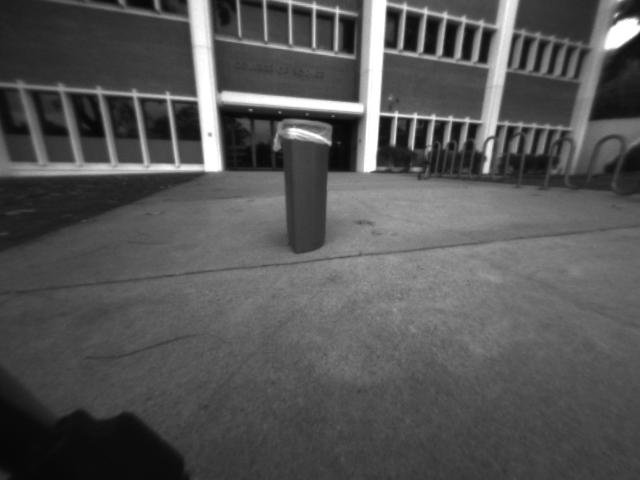trashcan_open: (273, 117, 334, 256)
